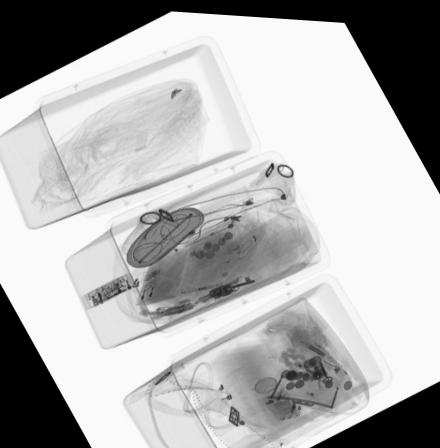Lighter: (329, 358, 354, 378)
